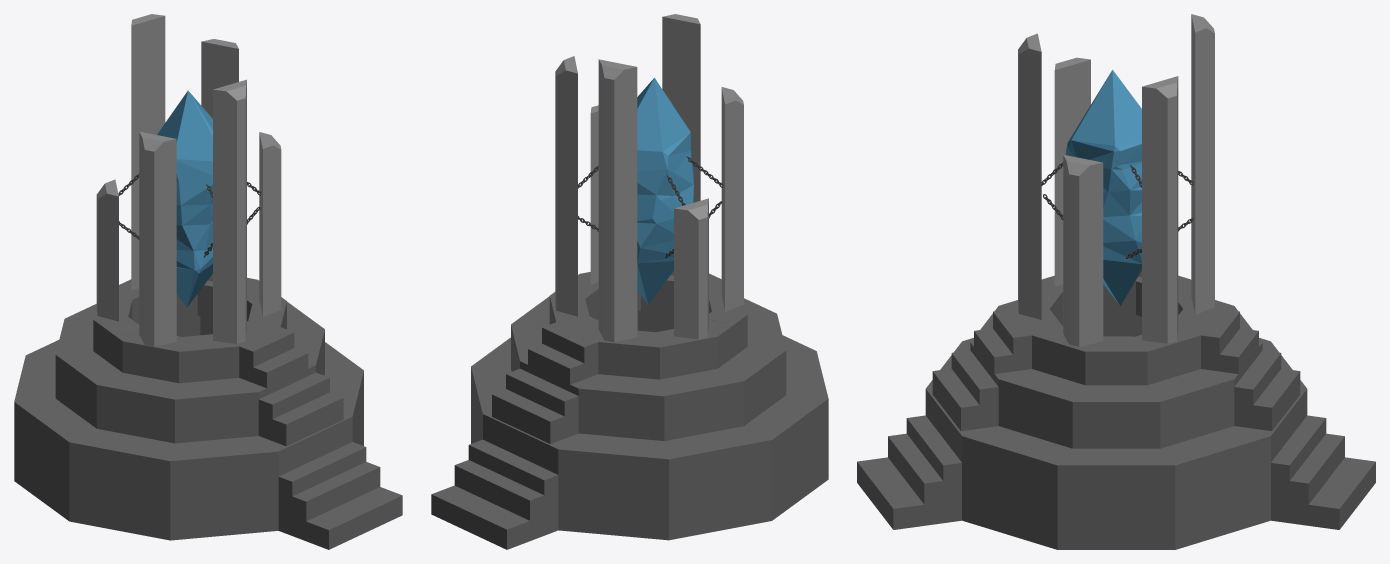
File: blue_crystal.fbx
3 renders of one model, left to right at view 1: azimuth 30°, elevation 25°; view 2: azimuth 150°, elevation 25°; view 3: azimuth 270°, elevation 25°, orthographic. The views are drawn at different scales.
Parts seen in each view (by area): view 1: Cylinder.012; view 2: Cylinder.012; view 3: Cylinder.012.
Boxes of the visible parts, left/top/right/bottom form: Cylinder.012: left=14, top=14, right=402, bottom=549; Cylinder.012: left=431, top=14, right=828, bottom=549; Cylinder.012: left=857, top=14, right=1375, bottom=549.
Size of the model in its own units: 1032 by 1404 by 1476.
